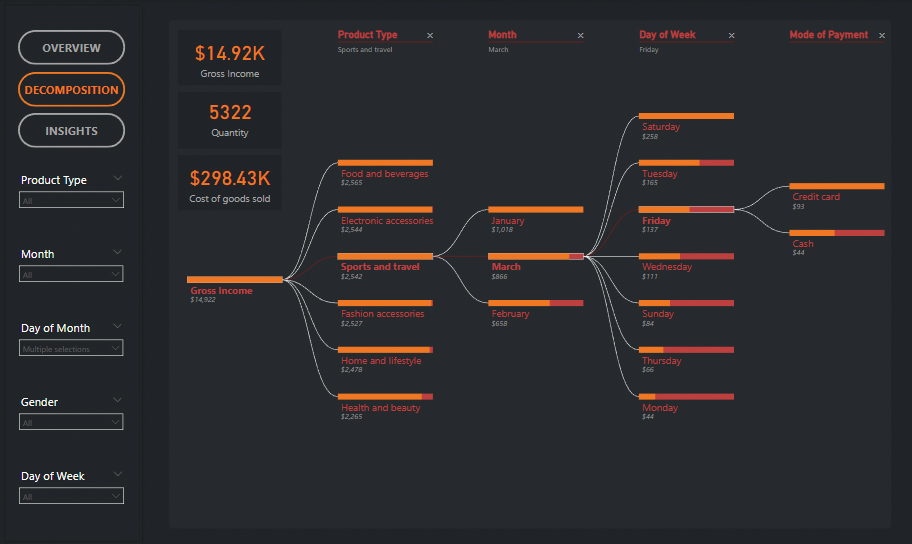

The page's visual inventory and layout, read from the dashboard file:
{"tool":"powerbi","page":{"name":"DECOMPOSITION","canvas":[1500,900],"ordinal":1},"visuals":[{"type":"shape","box":[0,0,241,900],"z":0},{"type":"shape","box":[279.4,34.9,1185.7,834.8],"z":1000},{"type":"slicer","fields":{"Values":["supermarket_sales - Sheet1.Day Name"]},"box":[23.3,765,191.7,86.7],"z":2000},{"type":"slicer","fields":{"Values":["supermarket_sales - Sheet1.Product Type"]},"box":[23.3,280,191.7,86.7],"z":3000},{"type":"slicer","fields":{"Values":["supermarket_sales - Sheet1.month"]},"box":[23.3,401.4,191.2,86.5],"z":4000},{"type":"slicer","fields":{"Values":["supermarket_sales - Sheet1.day"]},"box":[23.3,522.6,191.2,86.5],"z":5000},{"type":"slicer","fields":{"Values":["supermarket_sales - Sheet1.Gender"]},"box":[23.3,643.8,191.2,86.5],"z":6000},{"type":"actionButton","box":[31.6,119.7,176.3,56.5],"z":7000},{"type":"decompositionTreeVisual","fields":{"Analyze":["Sum(supermarket_sales - Sheet1.gross income)"],"ExplainBy":["supermarket_sales - Sheet1.Product line","supermarket_sales - Sheet1.month","supermarket_sales - Sheet1.Day Name","supermarket_sales - Sheet1.Payment","supermarket_sales - Sheet1.Gender"]},"box":[279.4,34.9,1185.7,834.8],"z":8000},{"type":"actionButton","box":[31.6,187.9,176.3,56.5],"z":9000},{"type":"actionButton","box":[31.6,51.6,176.3,56.5],"z":10000},{"type":"shape","box":[294.3,51.6,169.6,91.5],"z":11000},{"type":"card","fields":{"Values":["Sum(supermarket_sales - Sheet1.Gross Income)"]},"box":[294.3,51.6,169.6,91.5],"z":12000},{"type":"shape","box":[294.3,256.1,169.6,91.5],"z":13000},{"type":"shape","box":[294.3,153,169.6,93.1],"z":14000},{"type":"card","fields":{"Values":["Sum(supermarket_sales - Sheet1.Cost of goods sold)"]},"box":[294.3,256.1,169.6,91.5],"z":15000},{"type":"card","fields":{"Values":["Sum(supermarket_sales - Sheet1.Quantity)"]},"box":[294.3,148,169.6,91.5],"z":16000}]}

Visuals, with their boxes on the page's 1500x900 design canvas (x1, y1, x2, y2). These are canvas units, not pixel positions in the 912x544 screenshot, which may show the page scaled, cropped or inside an application window:
shape: 0 0 241 900
shape: 279 35 1465 870
slicer - supermarket_sales - Sheet1.Day Name: 23 765 215 852
slicer - supermarket_sales - Sheet1.Product Type: 23 280 215 367
slicer - supermarket_sales - Sheet1.month: 23 401 214 488
slicer - supermarket_sales - Sheet1.day: 23 523 214 609
slicer - supermarket_sales - Sheet1.Gender: 23 644 214 730
actionButton: 32 120 208 176
decompositionTreeVisual - Sum(supermarket_sales - Sheet1.gross income) x supermarket_sales - Sheet1.Product line: 279 35 1465 870
actionButton: 32 188 208 244
actionButton: 32 52 208 108
shape: 294 52 464 143
card - Sum(supermarket_sales - Sheet1.Gross Income): 294 52 464 143
shape: 294 256 464 348
shape: 294 153 464 246
card - Sum(supermarket_sales - Sheet1.Cost of goods sold): 294 256 464 348
card - Sum(supermarket_sales - Sheet1.Quantity): 294 148 464 240
